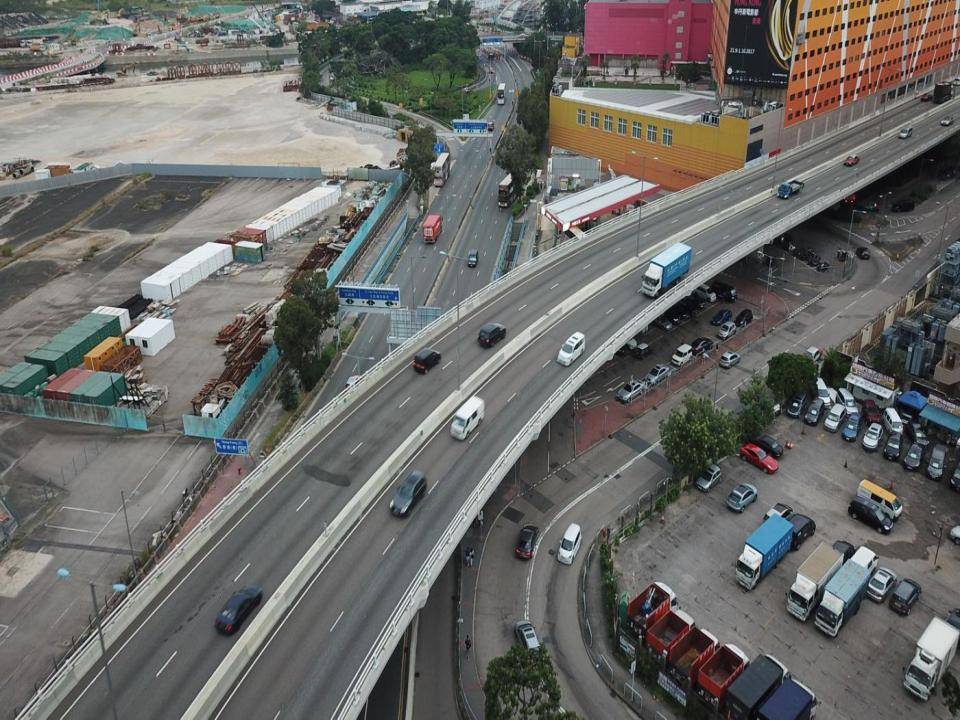bus: (497, 169, 522, 208), (432, 152, 451, 189), (496, 82, 507, 106)
car: (208, 585, 271, 633), (388, 465, 423, 520), (850, 499, 894, 533), (741, 442, 780, 478), (516, 615, 540, 661), (868, 567, 896, 603), (411, 347, 442, 375), (727, 483, 758, 511), (516, 524, 539, 559), (927, 442, 948, 480), (476, 323, 506, 348), (615, 378, 645, 402), (642, 362, 670, 387), (903, 439, 924, 472), (786, 388, 808, 417), (824, 405, 846, 432), (910, 419, 929, 450), (862, 422, 882, 451), (859, 396, 879, 425), (838, 386, 857, 416), (805, 400, 825, 428), (884, 432, 902, 463), (698, 460, 717, 489), (884, 404, 902, 433), (842, 415, 861, 441), (692, 334, 710, 360), (717, 351, 742, 369), (814, 375, 829, 402), (673, 344, 689, 369), (760, 435, 781, 454), (802, 347, 825, 362), (737, 308, 754, 328), (855, 199, 881, 212), (719, 322, 736, 340), (714, 309, 730, 328), (656, 312, 672, 330), (634, 342, 652, 357), (856, 245, 871, 262), (843, 154, 862, 167), (898, 124, 914, 139), (940, 114, 955, 128), (919, 92, 932, 103), (486, 120, 495, 134), (490, 51, 496, 63), (488, 66, 494, 75)
truck: (786, 536, 852, 622), (820, 545, 879, 636), (906, 611, 960, 703), (735, 514, 796, 590), (732, 648, 781, 716), (639, 240, 692, 297), (629, 580, 681, 634), (644, 608, 696, 657), (700, 648, 740, 706), (758, 679, 816, 719), (665, 628, 707, 682), (422, 213, 443, 244), (775, 176, 804, 198), (933, 80, 955, 100)
van: (449, 395, 486, 440), (856, 479, 902, 515), (893, 576, 921, 614), (557, 330, 586, 366), (557, 523, 583, 563), (892, 195, 916, 213), (714, 280, 736, 298), (698, 285, 715, 306), (466, 249, 480, 268)
